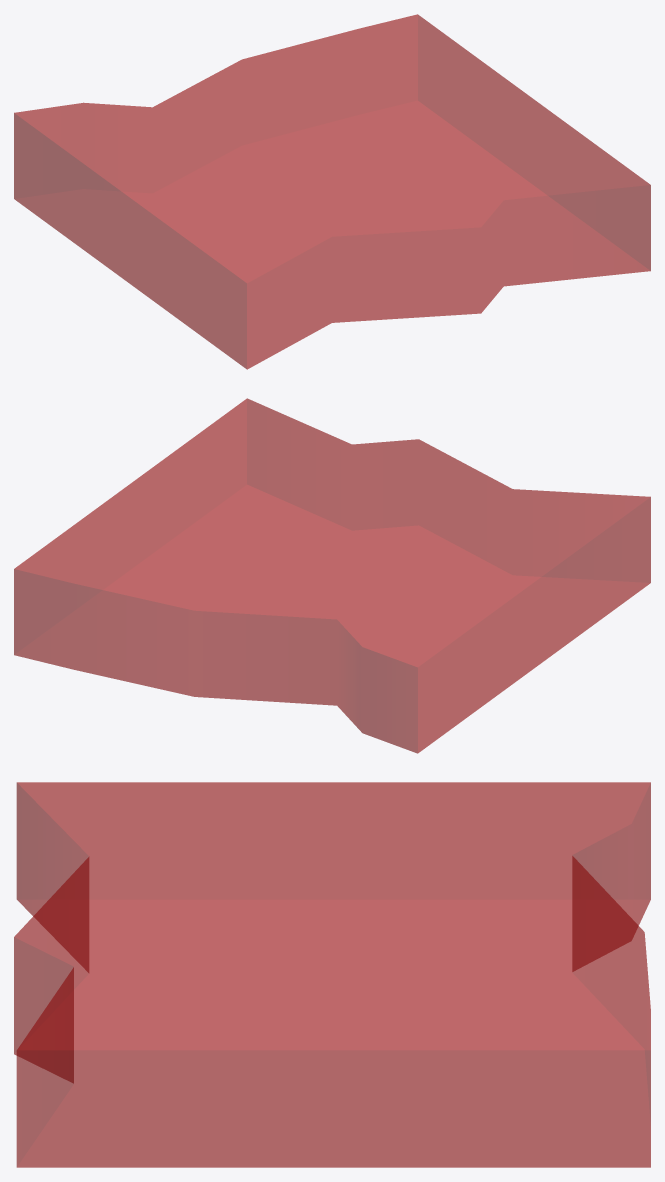
Rendered from SM_Env_Motorway_Middle_Destroyed_01_Collision.fbx.
3 views of the same model, one above another, from view 1: azimuth 30°, elevation 25°; view 2: azimuth 150°, elevation 25°; view 3: azimuth 270°, elevation 25° (orthographic). The views are drawn at different scales.
Visible parts, largest first — view 1: SM_Env_Motorway_Middle_Destroyed_01_Collision; view 2: SM_Env_Motorway_Middle_Destroyed_01_Collision; view 3: SM_Env_Motorway_Middle_Destroyed_01_Collision.
Part boxes in pixels (<box>): SM_Env_Motorway_Middle_Destroyed_01_Collision: <box>14,14,650,369</box>; SM_Env_Motorway_Middle_Destroyed_01_Collision: <box>14,398,650,753</box>; SM_Env_Motorway_Middle_Destroyed_01_Collision: <box>14,782,650,1167</box>.
Bounding box in the file's own units: 500 × 102 × 502.
